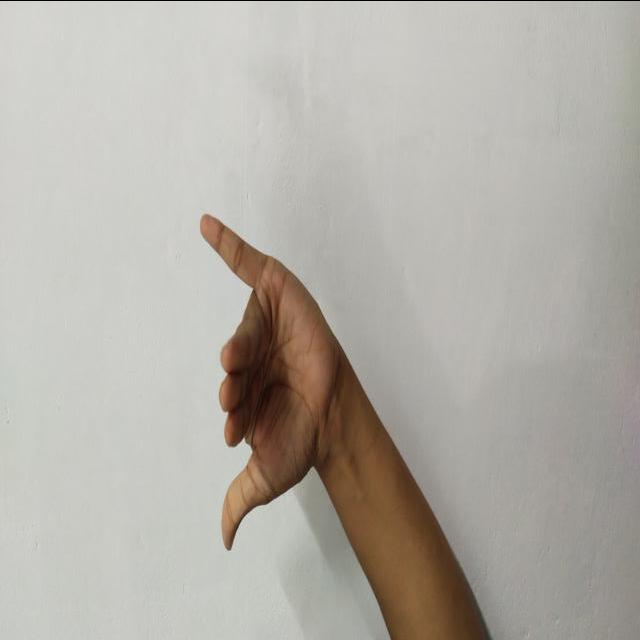mrighasheesh: (190, 165, 340, 599)
